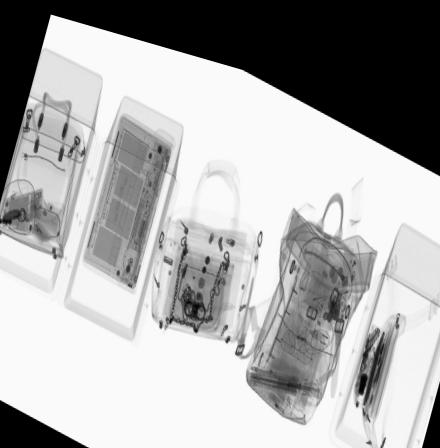Lighter: (30, 211, 46, 236)
